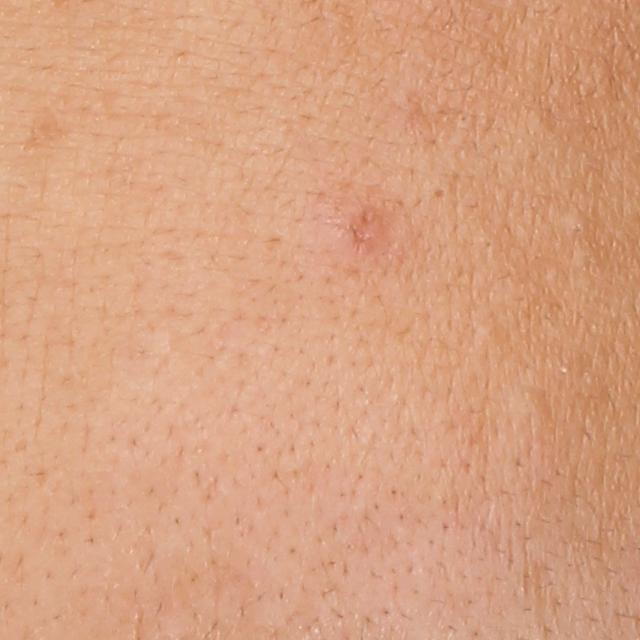comedo: (513, 386, 549, 418), (478, 324, 500, 345), (432, 185, 449, 200)
